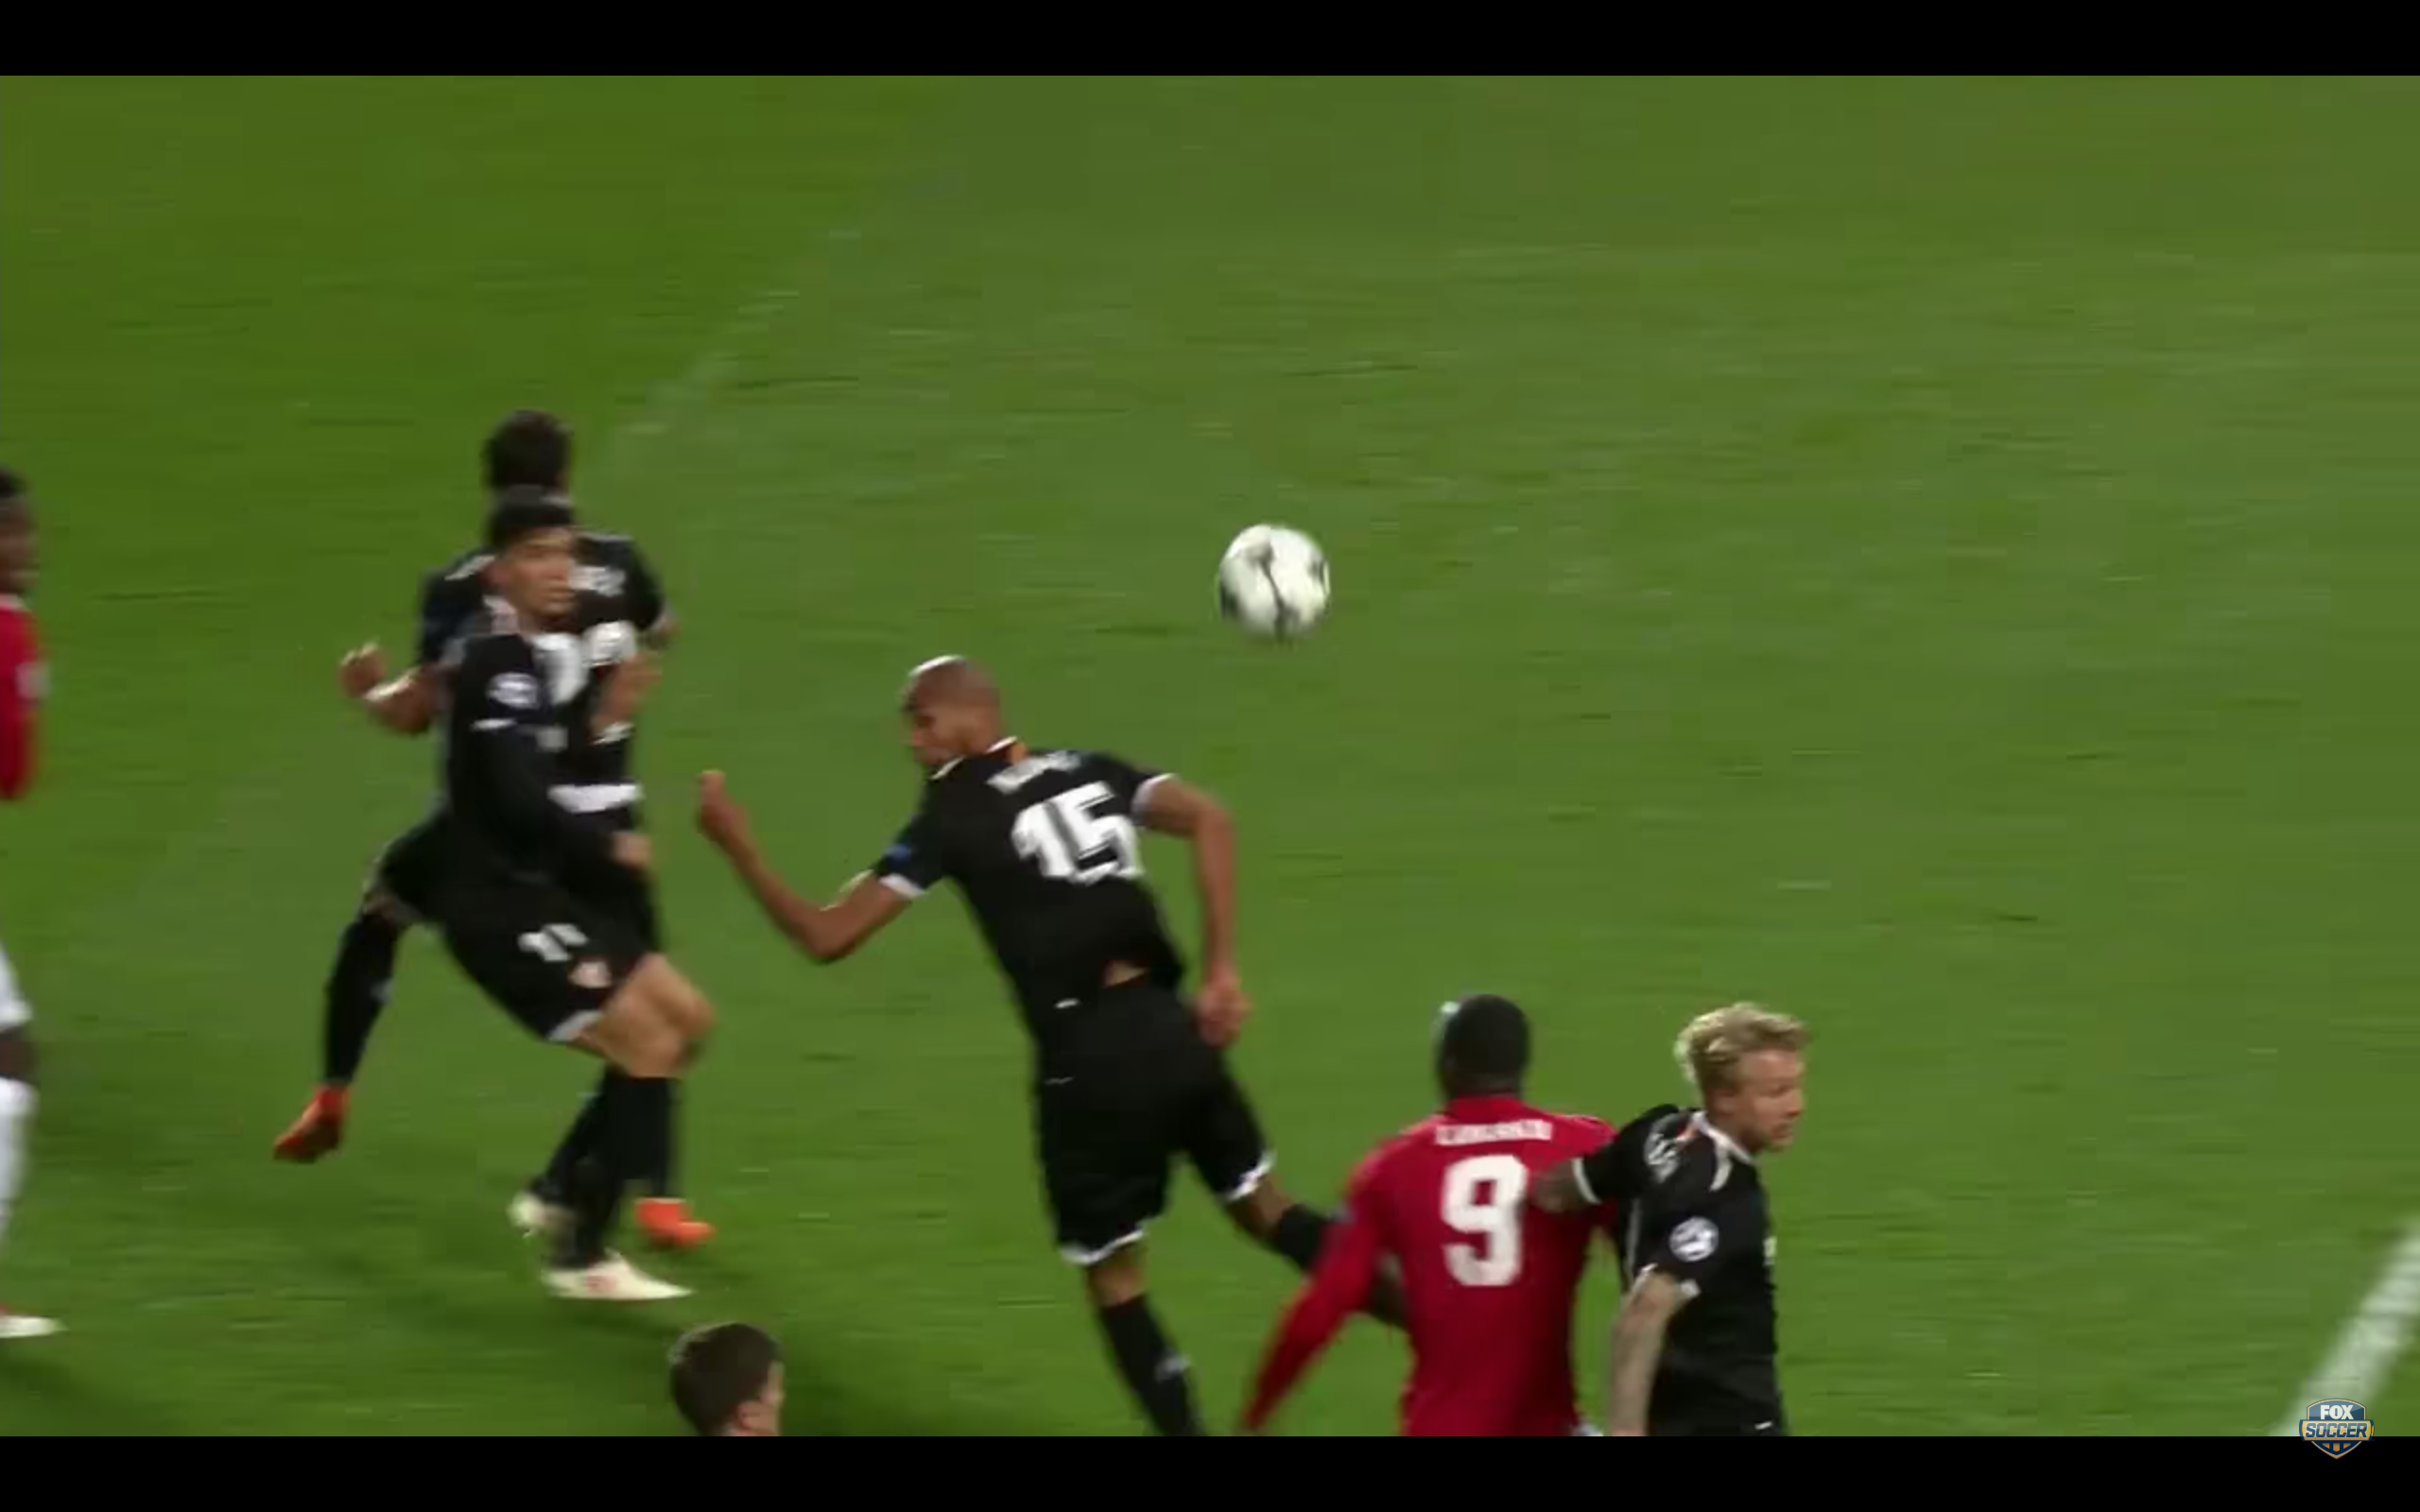soccer player: (698, 643, 1397, 1419), (434, 521, 707, 1310), (1236, 970, 1612, 1433), (1579, 986, 1822, 1437)
soccerball: (1203, 515, 1346, 659)
